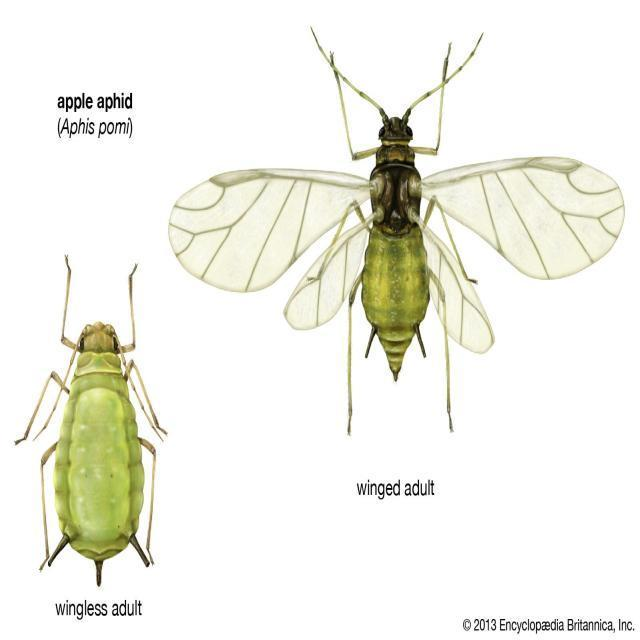Aphids: (10, 218, 179, 580)
